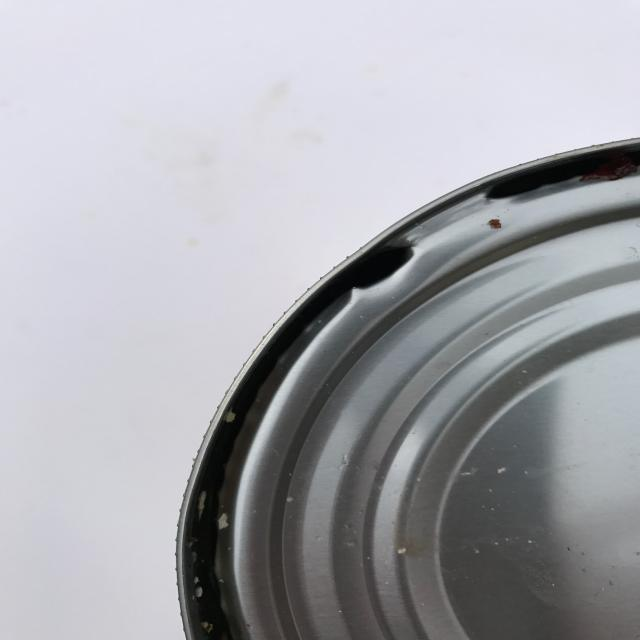metal: (174, 136, 640, 640)
